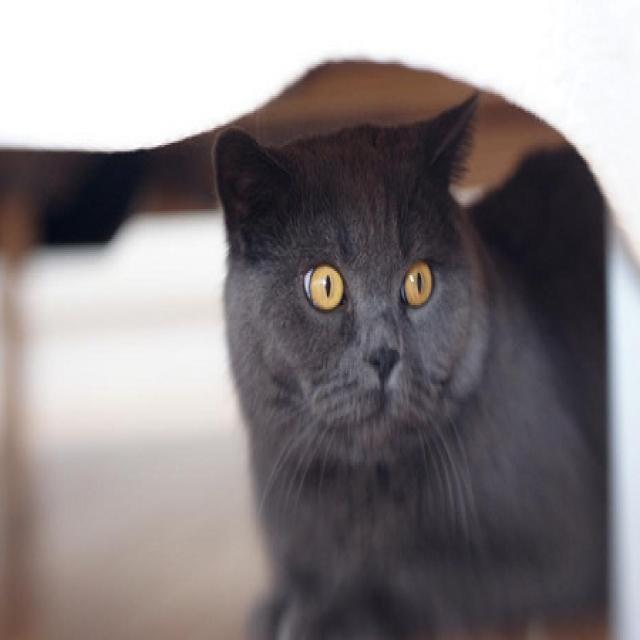British Shorthair: (203, 85, 609, 640)
